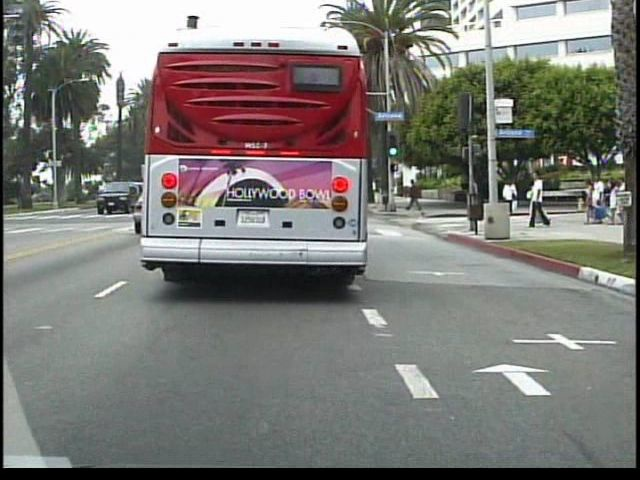person: (528, 167, 550, 228), (407, 177, 427, 217), (467, 174, 484, 216), (501, 177, 522, 204)
